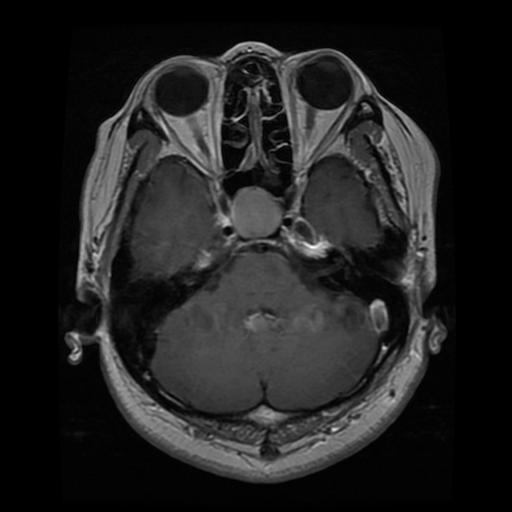Pituirity_tumour: (232, 187, 281, 236)
